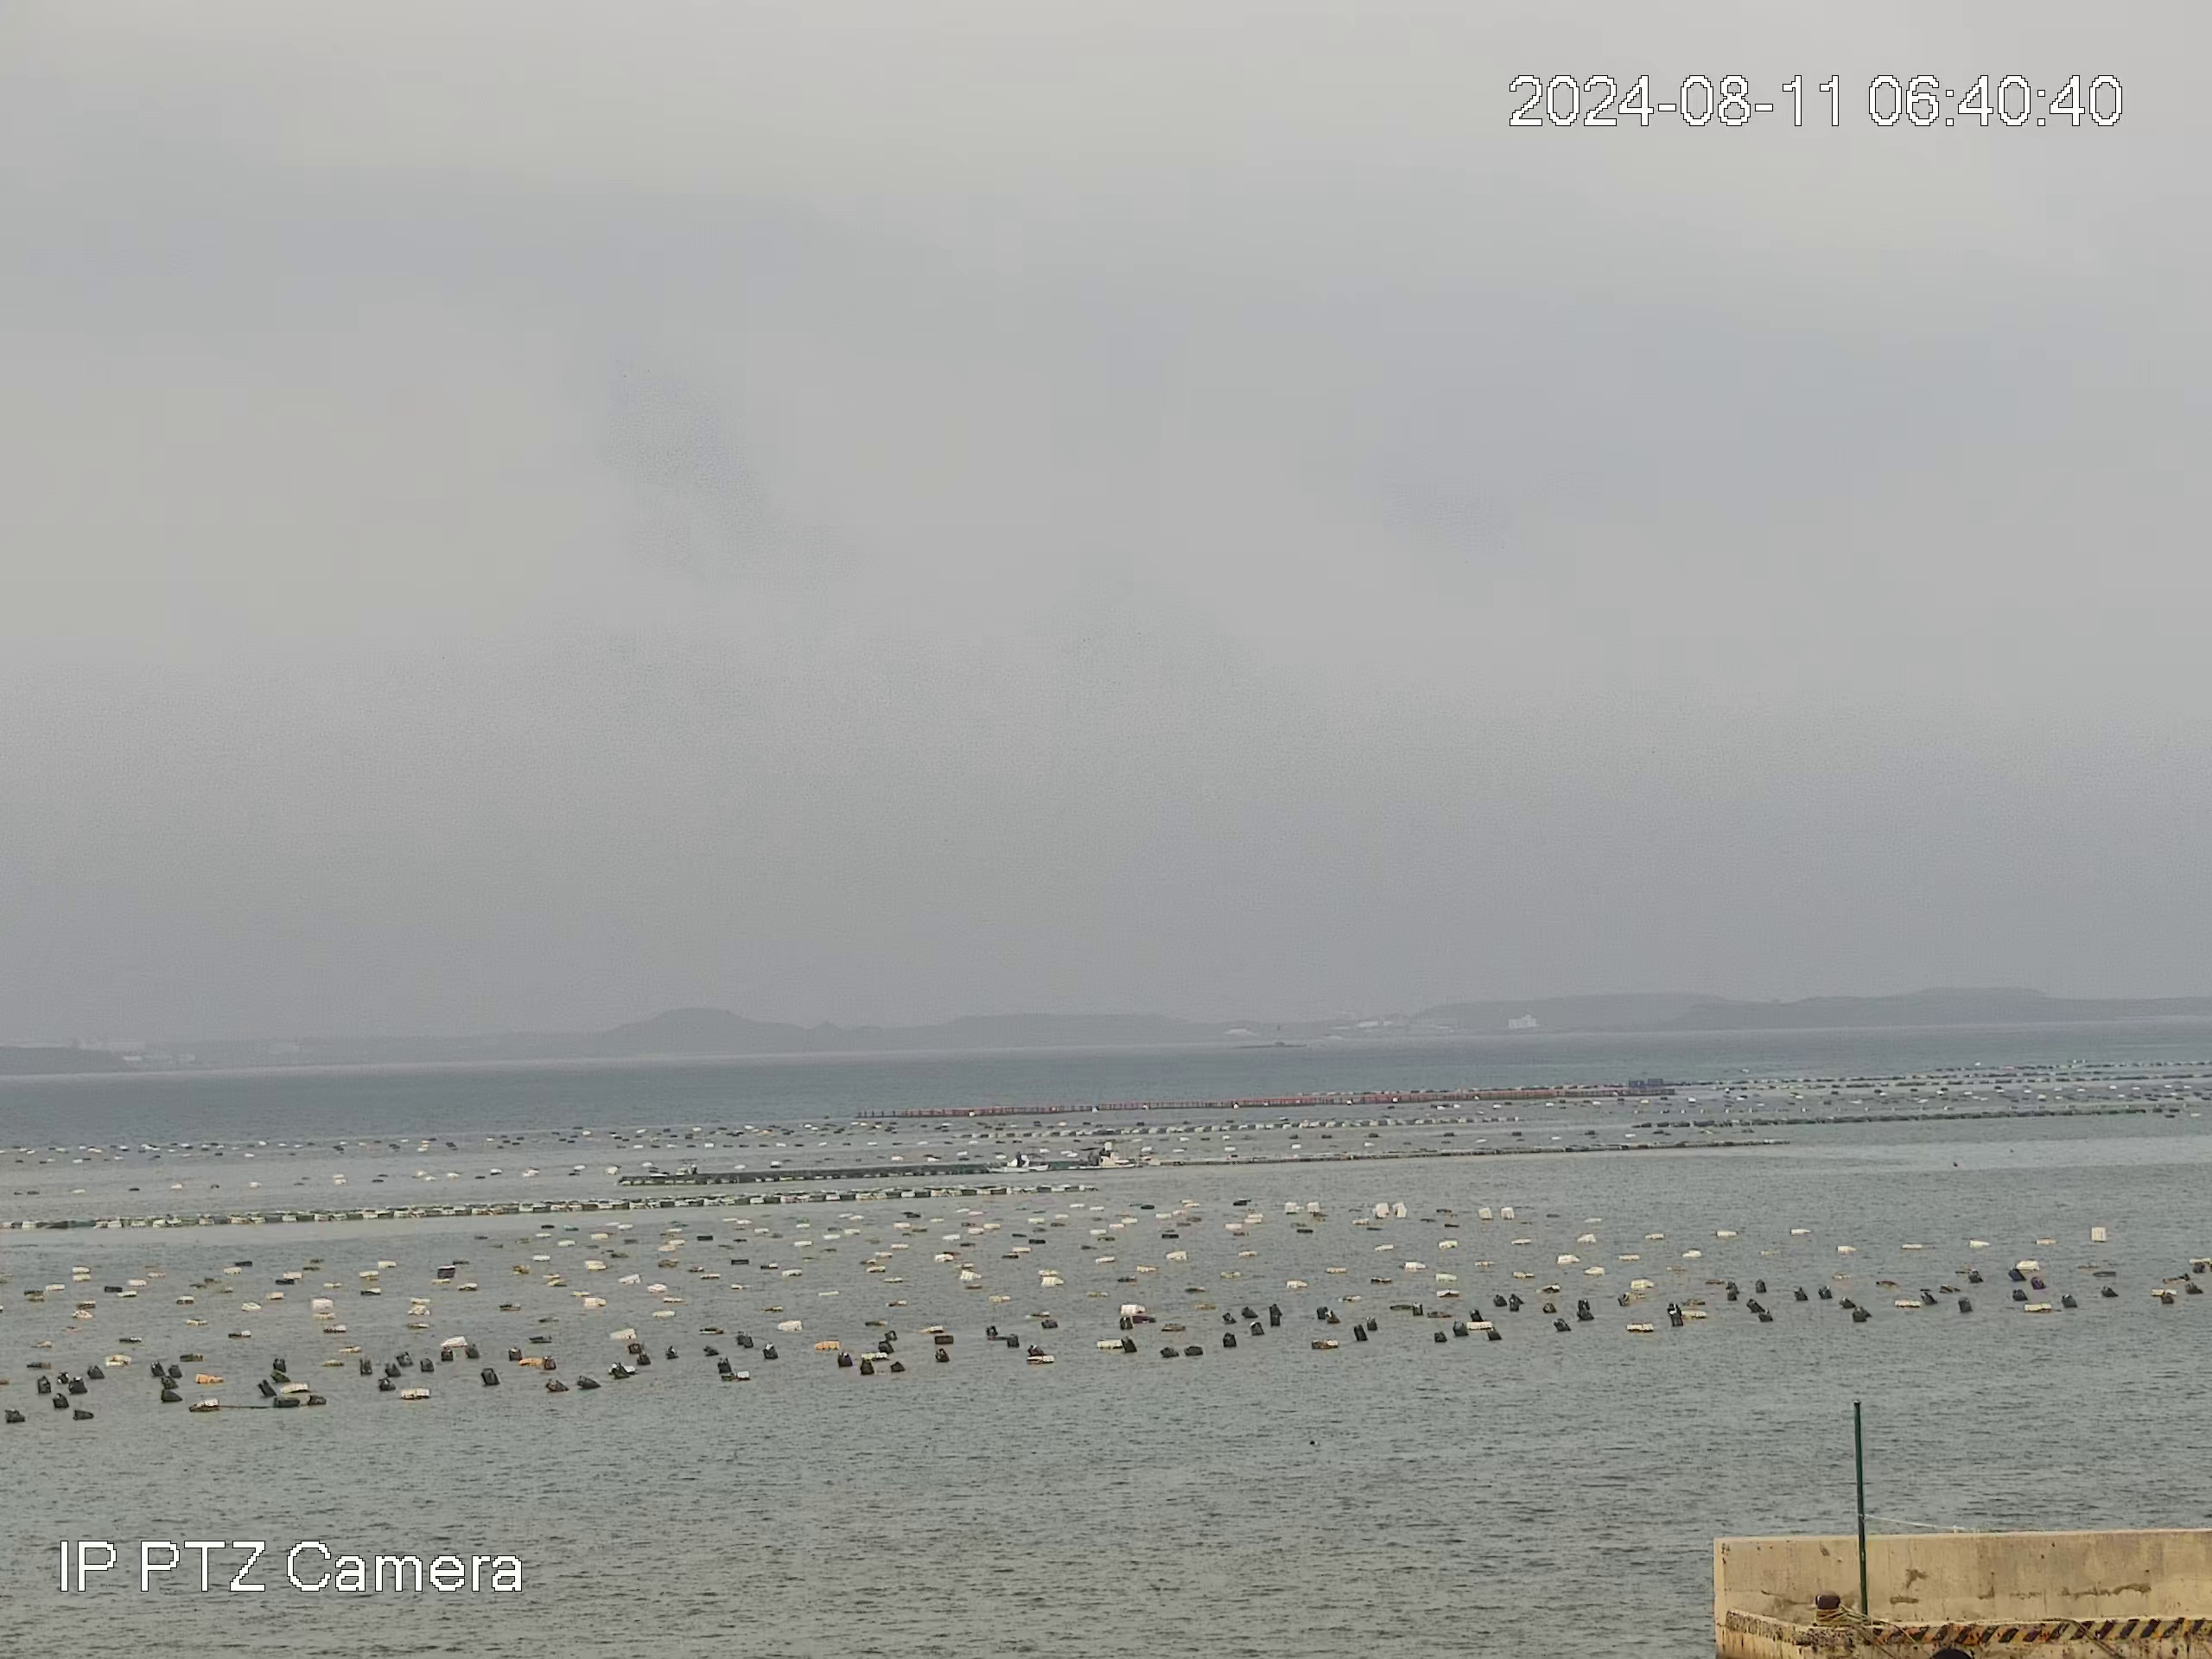boat: (982, 1152, 1050, 1175), (1064, 1145, 1122, 1169)
